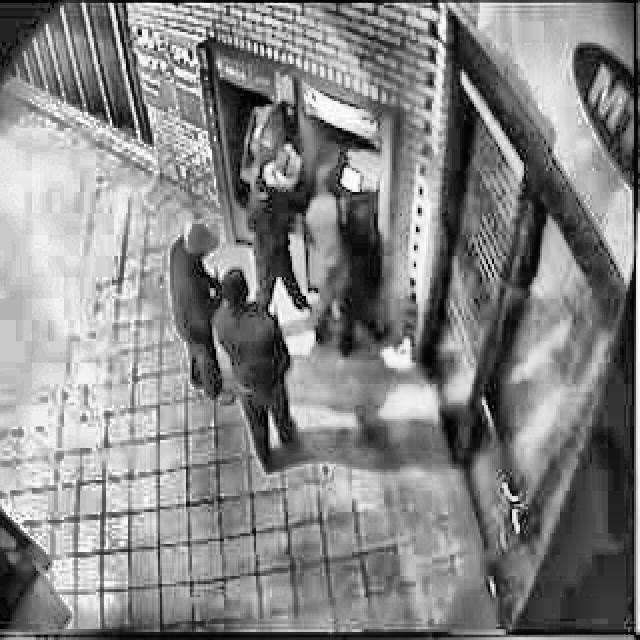burglary: (163, 87, 385, 406)
